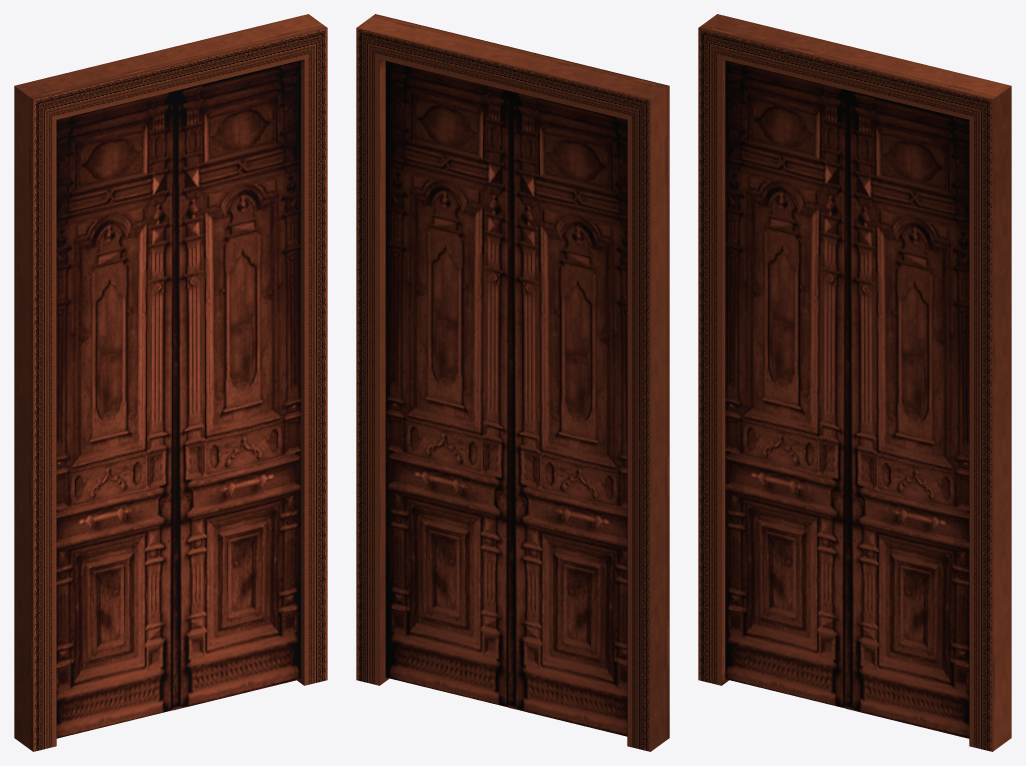
The model's file is door_3.fbx.
3 renders of one model, left to right at view 1: azimuth 30°, elevation 25°; view 2: azimuth 150°, elevation 25°; view 3: azimuth 330°, elevation 25°, orthographic.
Parts seen in each view (by area): view 1: Cube.011, Cube.014, Cube.006; view 2: Cube.011, Cube.014, Cube.006; view 3: Cube.011, Cube.014, Cube.006.
Boxes of the visible parts, x1=… form: Cube.011: x1=173, y1=60, x2=300, y2=710; Cube.014: x1=56, y1=91, x2=173, y2=738; Cube.006: x1=14, y1=14, x2=327, y2=751; Cube.011: x1=385, y1=61, x2=508, y2=707; Cube.014: x1=508, y1=91, x2=627, y2=736; Cube.006: x1=356, y1=14, x2=669, y2=751; Cube.011: x1=845, y1=89, x2=969, y2=738; Cube.014: x1=725, y1=60, x2=845, y2=708; Cube.006: x1=698, y1=14, x2=1011, y2=751.
Size of the model in its own units: 78.08 by 165 by 8.71.
